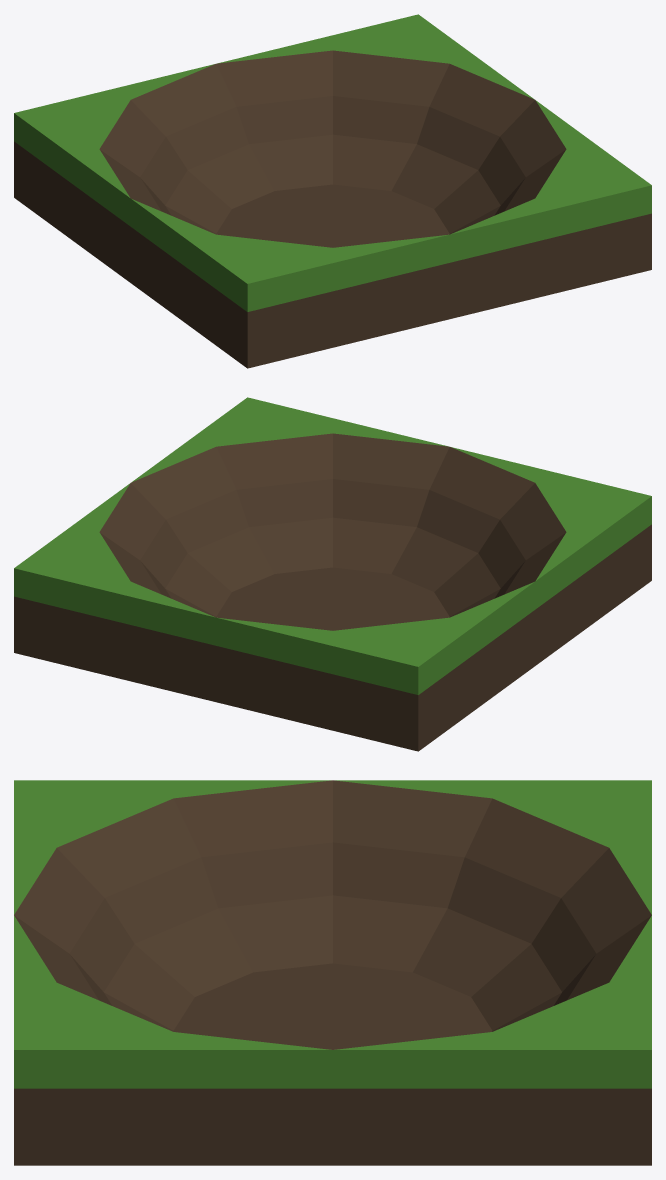
Rendered from tiles_tile-hole-big.fbx.
3 renders of one model, top to bottom at view 1: azimuth 30°, elevation 25°; view 2: azimuth 150°, elevation 25°; view 3: azimuth 270°, elevation 25°, orthographic. The views are drawn at different scales.
Parts seen in each view (by area): view 1: tiles_tile_hole_big; view 2: tiles_tile_hole_big; view 3: tiles_tile_hole_big.
Part boxes in pixels (bbox=[...]): tiles_tile_hole_big: bbox=[14, 14, 651, 368]; tiles_tile_hole_big: bbox=[14, 397, 651, 751]; tiles_tile_hole_big: bbox=[14, 780, 651, 1165].
Size of the model in its own units: 200 by 40 by 200.
